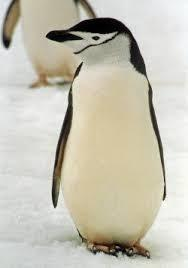chinstrap: (40, 11, 177, 258)
